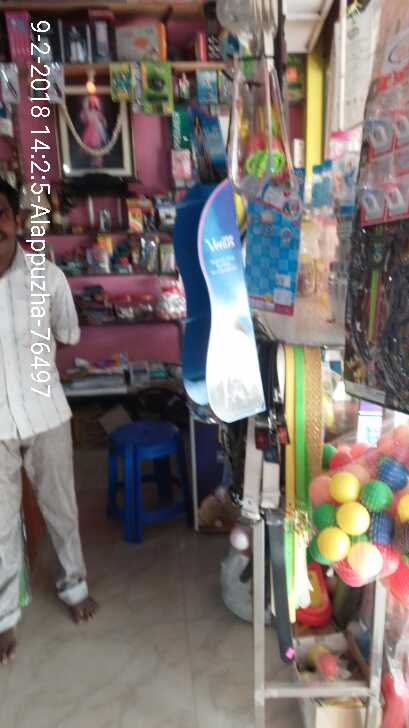reject: (103, 278, 170, 318)
